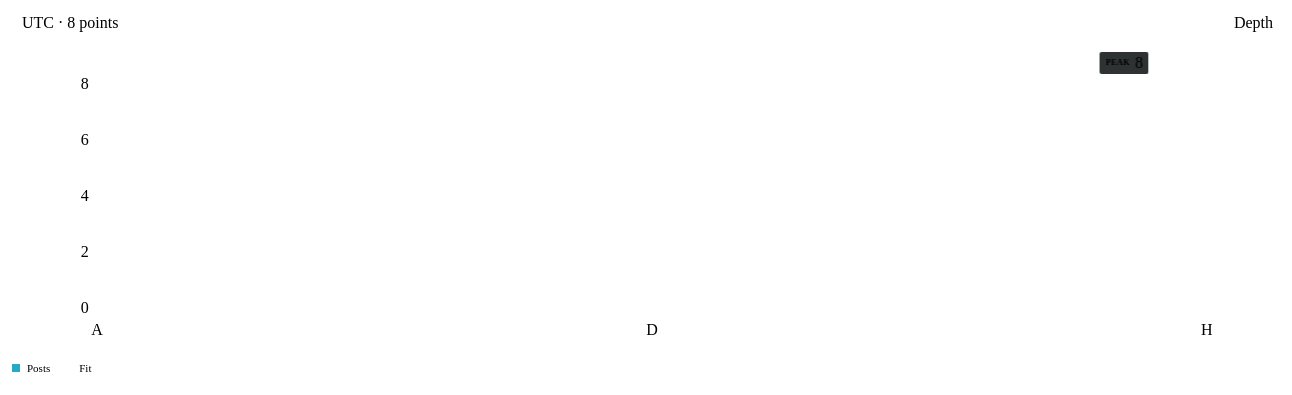
Test: interactive chart controls and accessible data › steps through exact values, filters series, and pans a zoomed window
Later steps or results of the test are not shown.
Expected: the element with class "statistics-three__peak-badge" shows "PEAK", [1106,58,1130,67]
Expected: the element with class "statistics-three__peak-badge" shows "8", [1135,54,1143,71]
Press ArrowLeft in the picture named "Publishing chart"
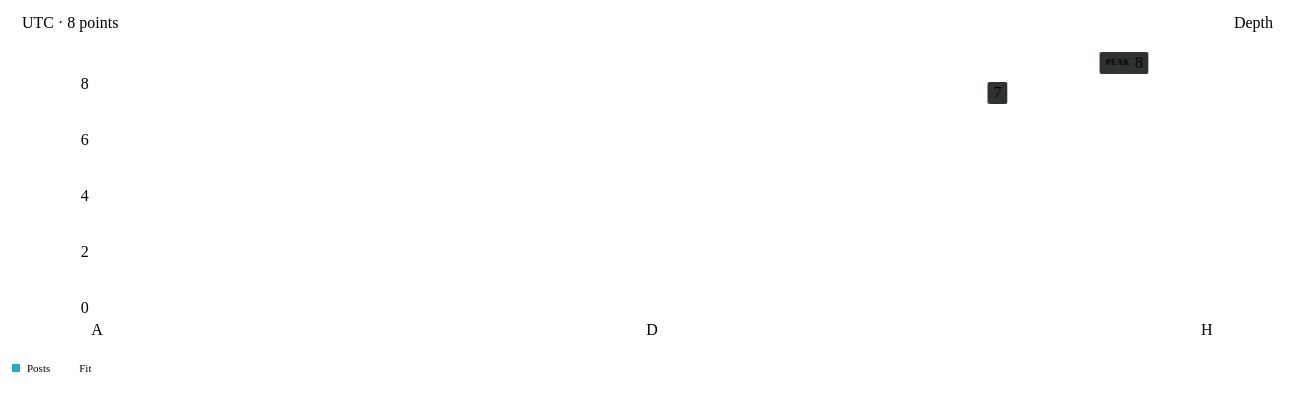
Click the button "Fit" at coordinates (78, 368), box [64,358,92,378]
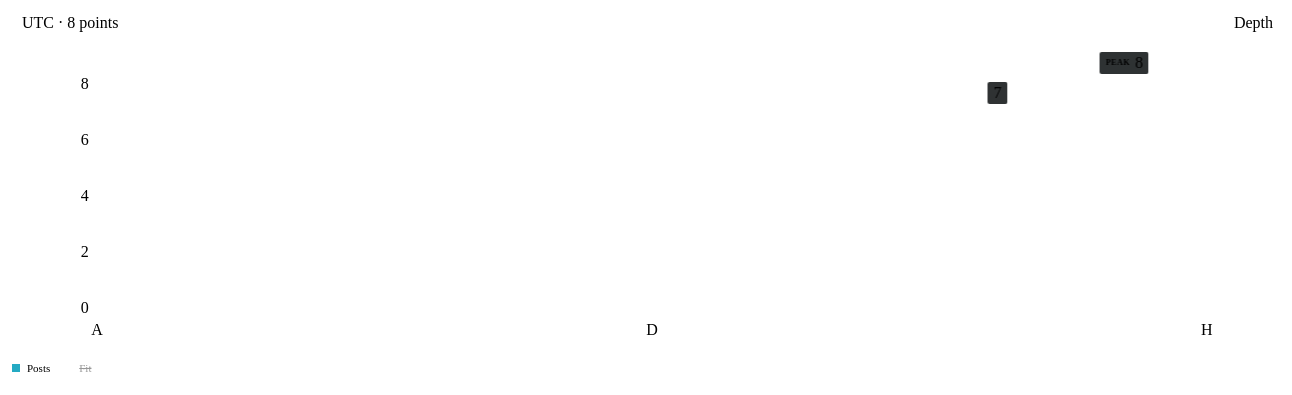
Now the button "Fit" is not pressed, box [64,358,92,378]
